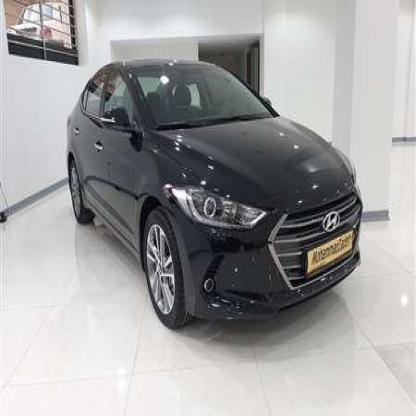Car: (66, 57, 361, 320), (3, 0, 71, 57)
